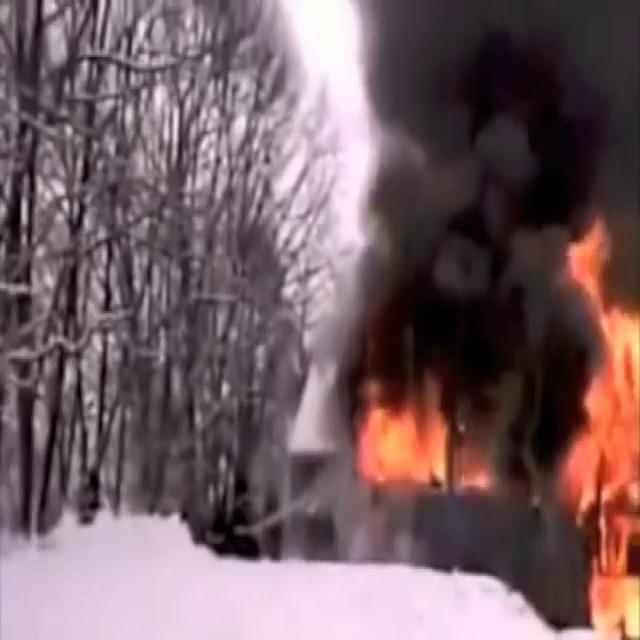Fire: (550, 224, 640, 636), (348, 358, 484, 504)
Smoke: (310, 0, 640, 409)
